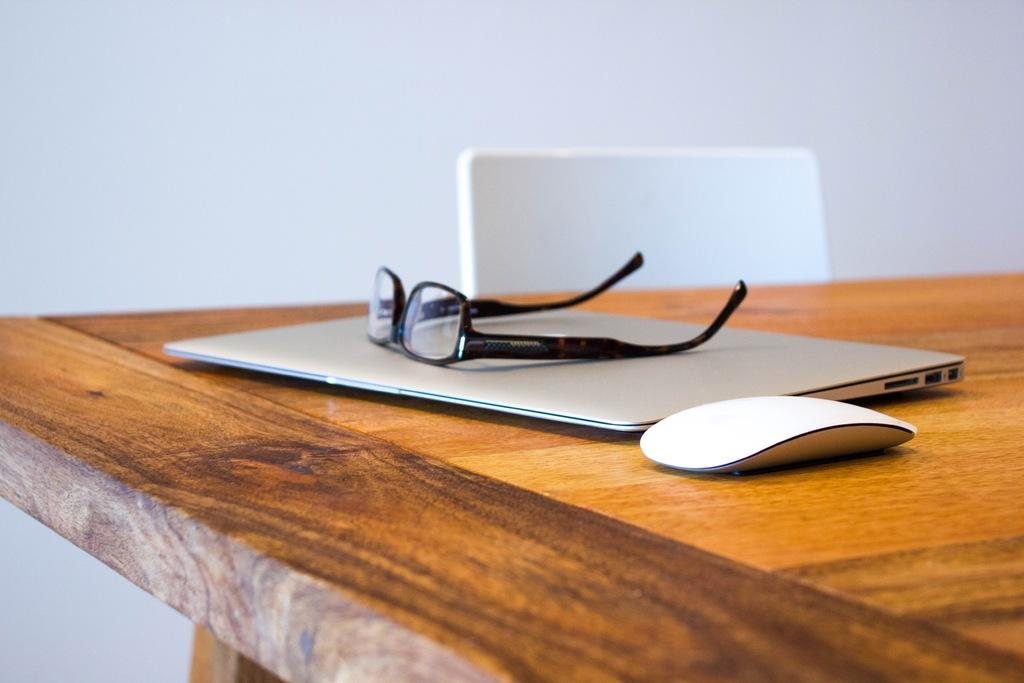Computer-mouse: (637, 392, 920, 483)
